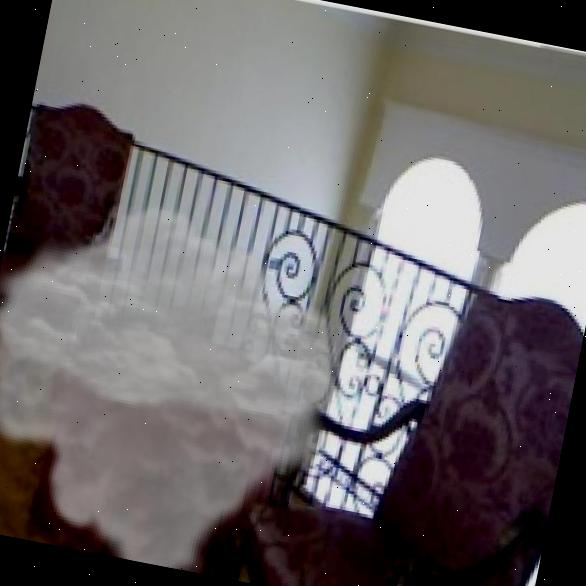smoke: (0, 173, 376, 586)
